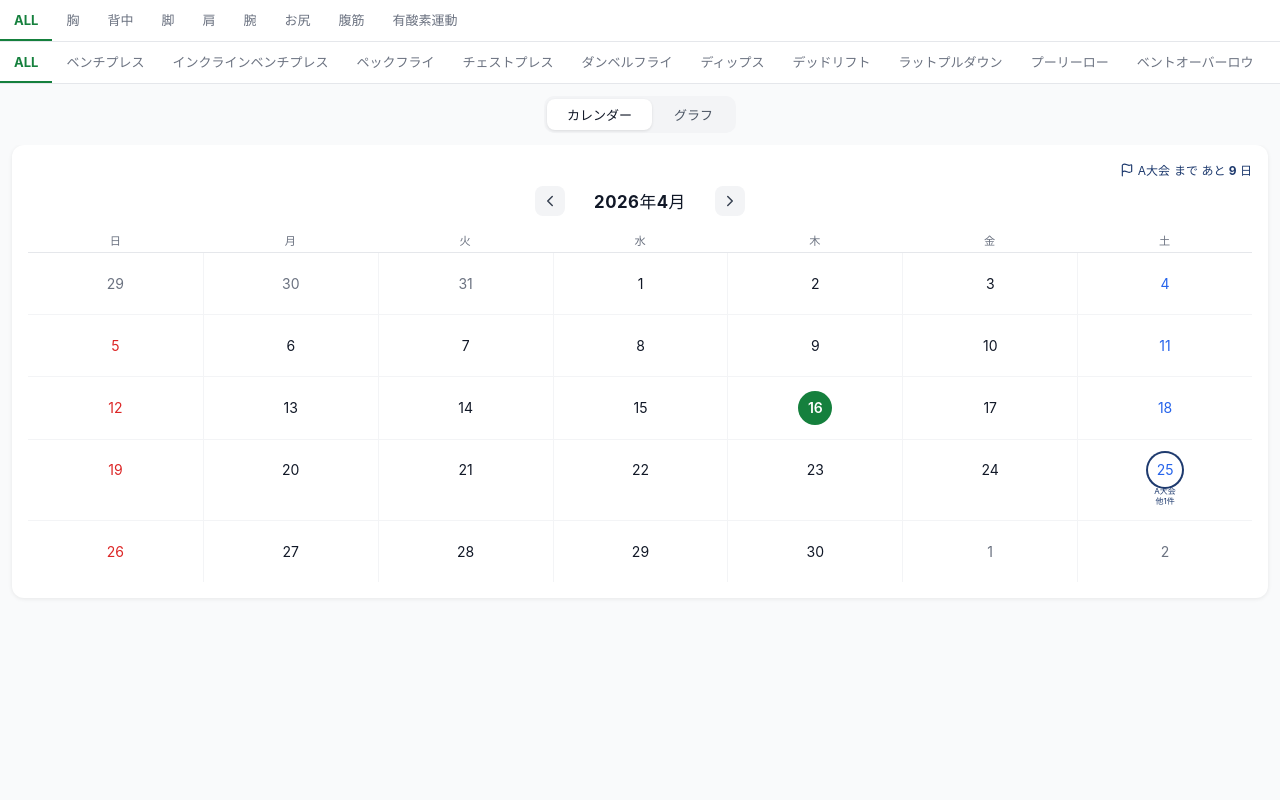
Scenario: HistoryPage — 日付を押したとき › 同じ日に複数の大会があれば、ポップアップに全部出る
This screenshot has width=1280, height=800.
Click the button "25 A大会 他1件".
click(1165, 479)  # box [1077, 439, 1252, 520]
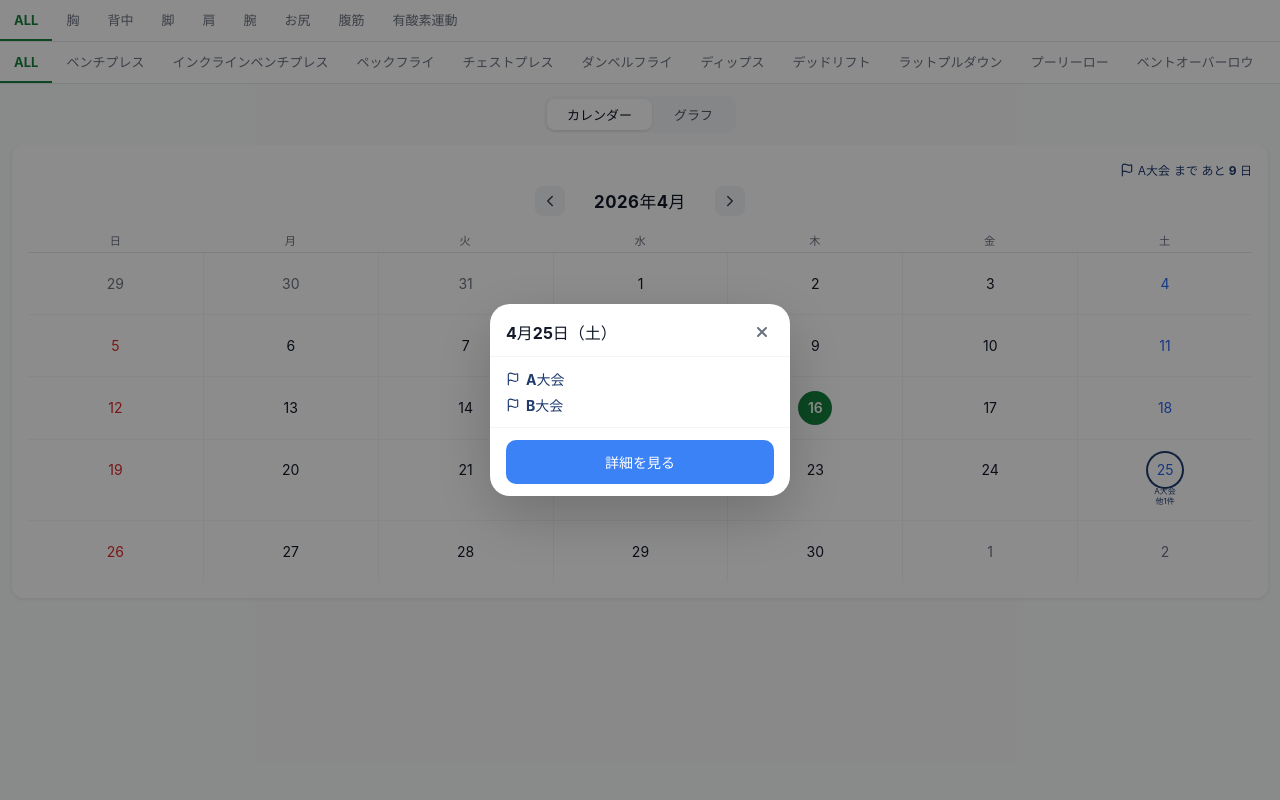
Expected: the text "A大会" is shown, [526, 369, 564, 389]
Expected: the text "B大会" is shown, [526, 395, 563, 415]
